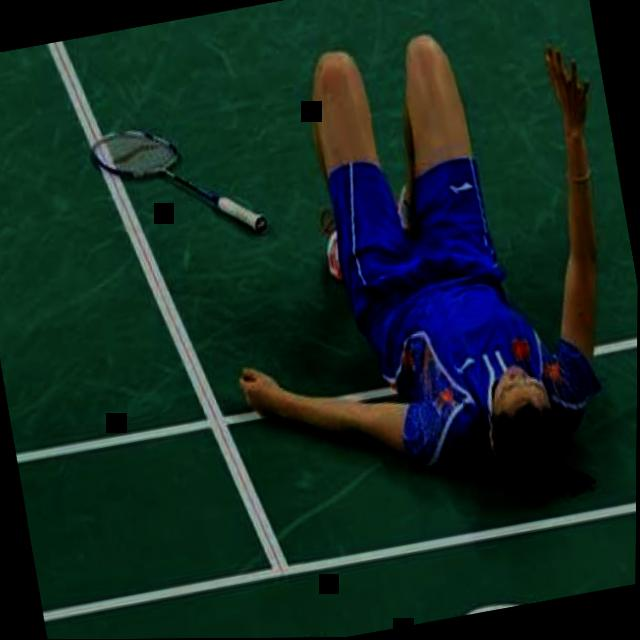Fall-Detected: (162, 0, 640, 546)
